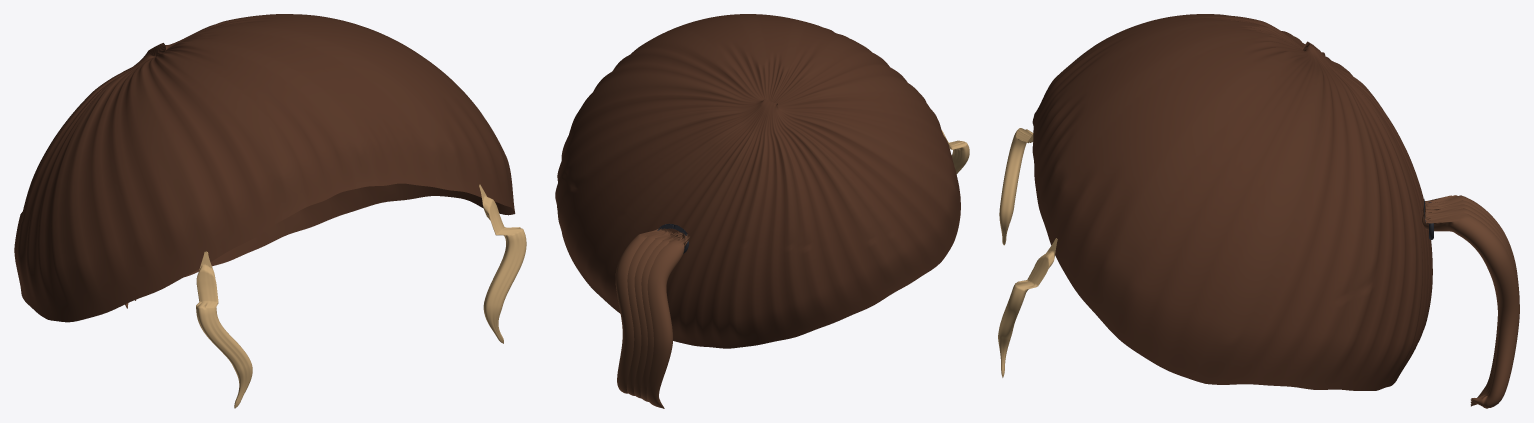
Rendered from Highlights-f3f9f0cd5f4f251-hair.glb.
3 views of the same model, side by side, from view 1: azimuth 30°, elevation 25°; view 2: azimuth 150°, elevation 25°; view 3: azimuth 270°, elevation 25° (orthographic). The views are drawn at different scales.
Visible parts, largest first — view 1: 226 hair / Hair / crisp pulled roots220.002, 226 hair / Hair / sculpted front locks222.002; view 2: 226 hair / Hair / crisp pulled roots220.002, 226 hair / Hair / chestnut226.001, 226 hair / Hair / sculpted front locks222.002; view 3: 226 hair / Hair / crisp pulled roots220.002, 226 hair / Hair / chestnut226.001, 226 hair / Hair / sculpted front locks222.002.
Boxes of the visible parts, x1,y1,x2,y2 form: 226 hair / Hair / crisp pulled roots220.002: (14, 14, 515, 322); 226 hair / Hair / sculpted front locks222.002: (196, 184, 526, 408); 226 hair / Hair / crisp pulled roots220.002: (555, 14, 960, 348); 226 hair / Hair / chestnut226.001: (615, 228, 690, 408); 226 hair / Hair / sculpted front locks222.002: (941, 130, 969, 173); 226 hair / Hair / crisp pulled roots220.002: (1032, 14, 1432, 390); 226 hair / Hair / chestnut226.001: (1422, 195, 1519, 408); 226 hair / Hair / sculpted front locks222.002: (998, 128, 1057, 377).
Size of the model in its own units: 0.9675 by 0.7594 by 0.9657.
